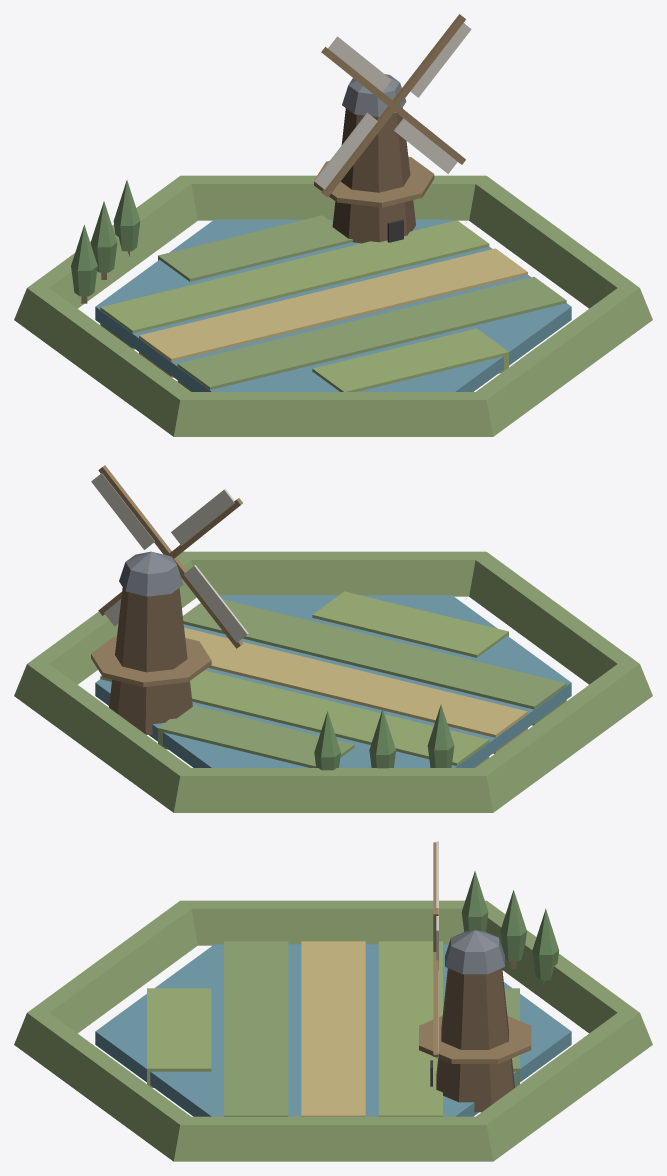
The model's file is polder.glb.
The picture shows the model from 3 angles, top to bottom: view 1: azimuth 30°, elevation 25°; view 2: azimuth 150°, elevation 25°; view 3: azimuth 270°, elevation 25°; orthographic projection.
Parts seen in each view (by area): view 1: LOD0; view 2: LOD0; view 3: LOD0.
Part boxes in pixels (x1=…): LOD0: x1=14, y1=14, x2=652, y2=436; LOD0: x1=14, y1=465, x2=652, y2=812; LOD0: x1=14, y1=841, x2=652, y2=1161.
Size of what is drawn, in the model's own units: 1.72 by 0.8032 by 1.99.
